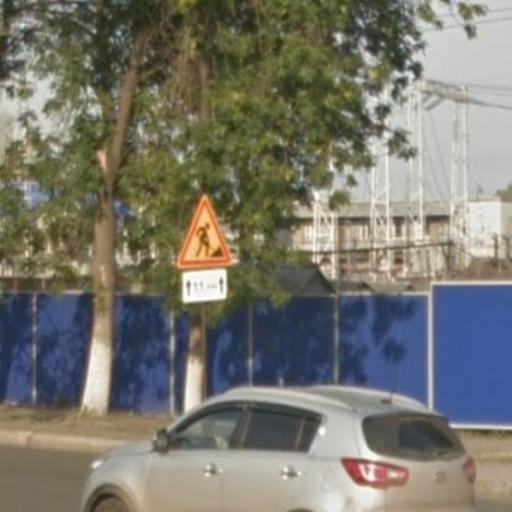traffic_sign: (174, 191, 238, 274)
